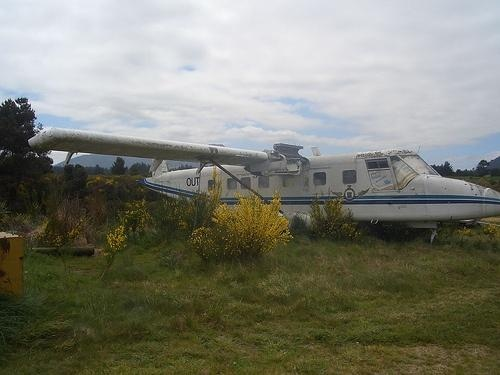aeroplane: (31, 127, 499, 244)
